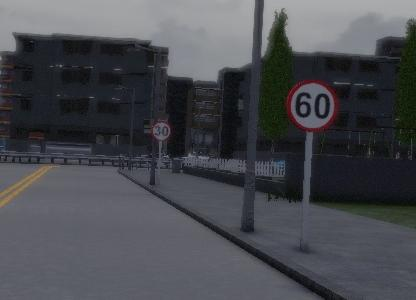Speed_60: (283, 74, 339, 130)
